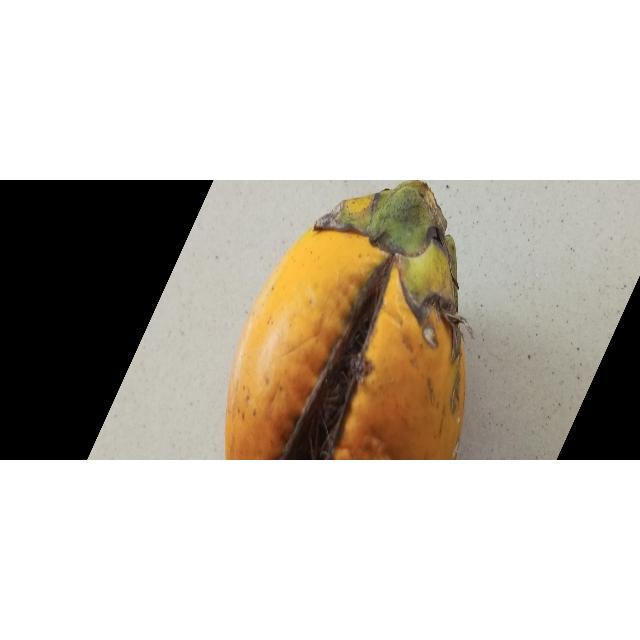damaged: (225, 180, 472, 461)
